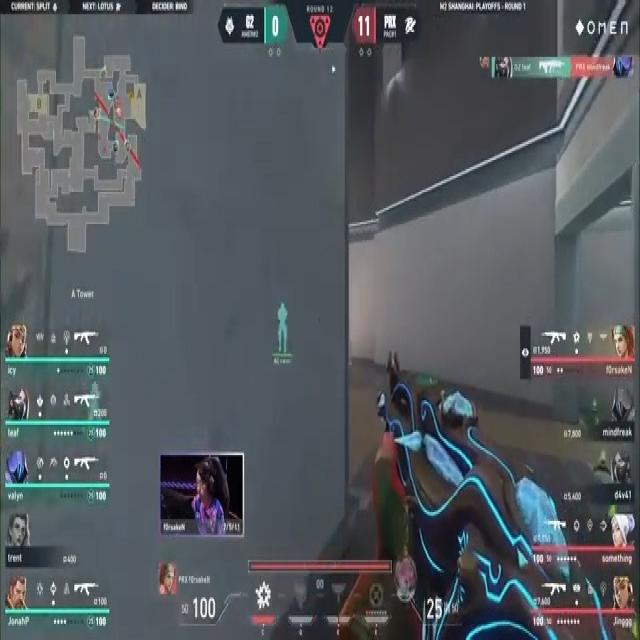ally behind wall: (274, 298, 292, 357)
